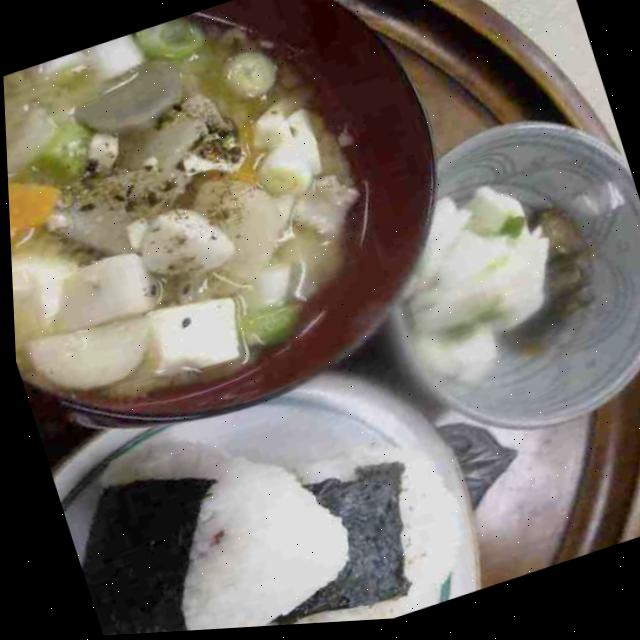米饭主食: (36, 334, 483, 639)
蔬菜料理: (0, 0, 516, 482)
